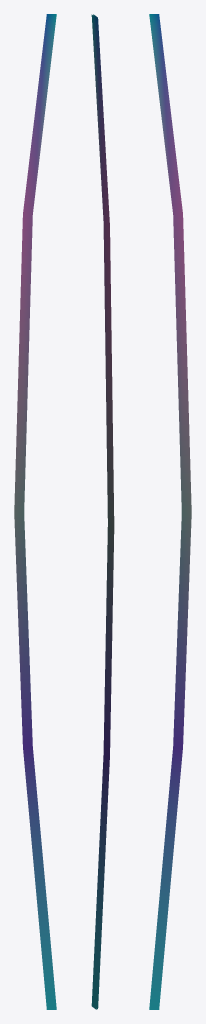
Rendered from ClothesLine_Rope.glb.
The picture shows the model from 3 angles, left to right: view 1: azimuth 90°, elevation 25°; view 2: azimuth 210°, elevation 25°; view 3: azimuth 270°, elevation 25°; orthographic projection.
Parts seen in each view (by area): view 1: MeshNode_0; view 2: MeshNode_0; view 3: MeshNode_0.
Boxes of the visible parts, left/top/right/bottom form: MeshNode_0: left=14, top=14, right=56, bottom=1009; MeshNode_0: left=91, top=14, right=114, bottom=1009; MeshNode_0: left=149, top=14, right=191, bottom=1009.
Bounding box in the file's own units: 0.0197 × 12.67 × 0.4896.
